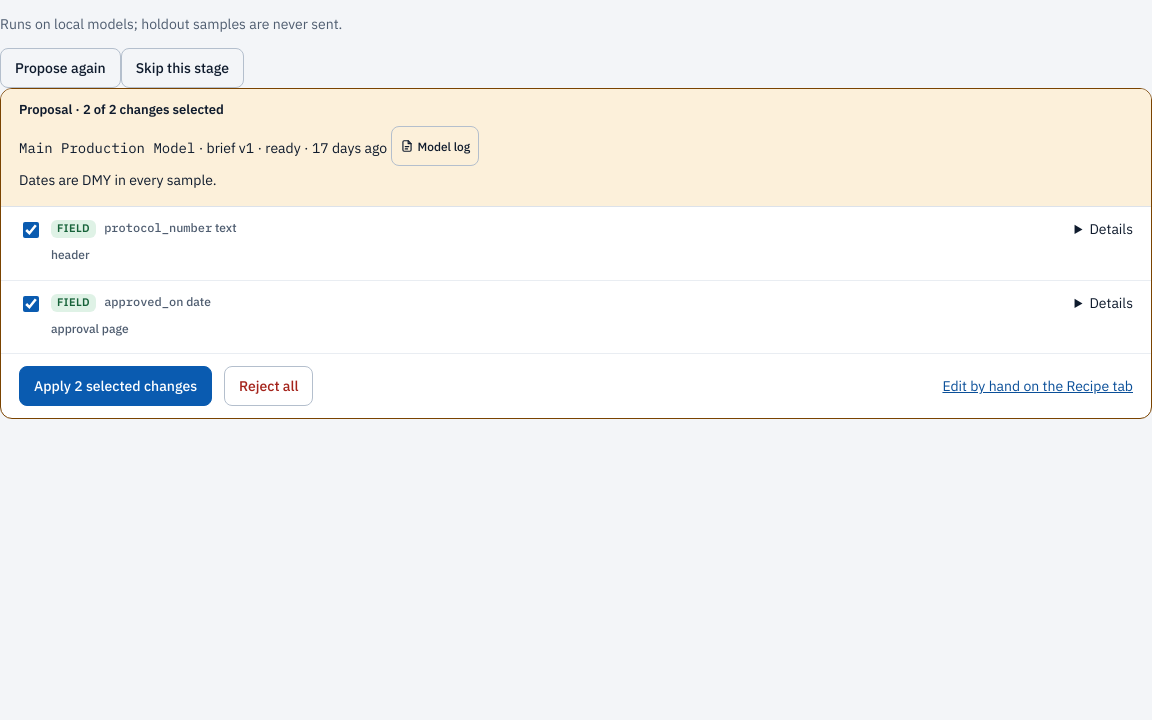
StagePanel › opens a proposal's model log, from the card and from a failed run
Click the button "Model log". click: (435, 146)
box: [390,126,479,166]
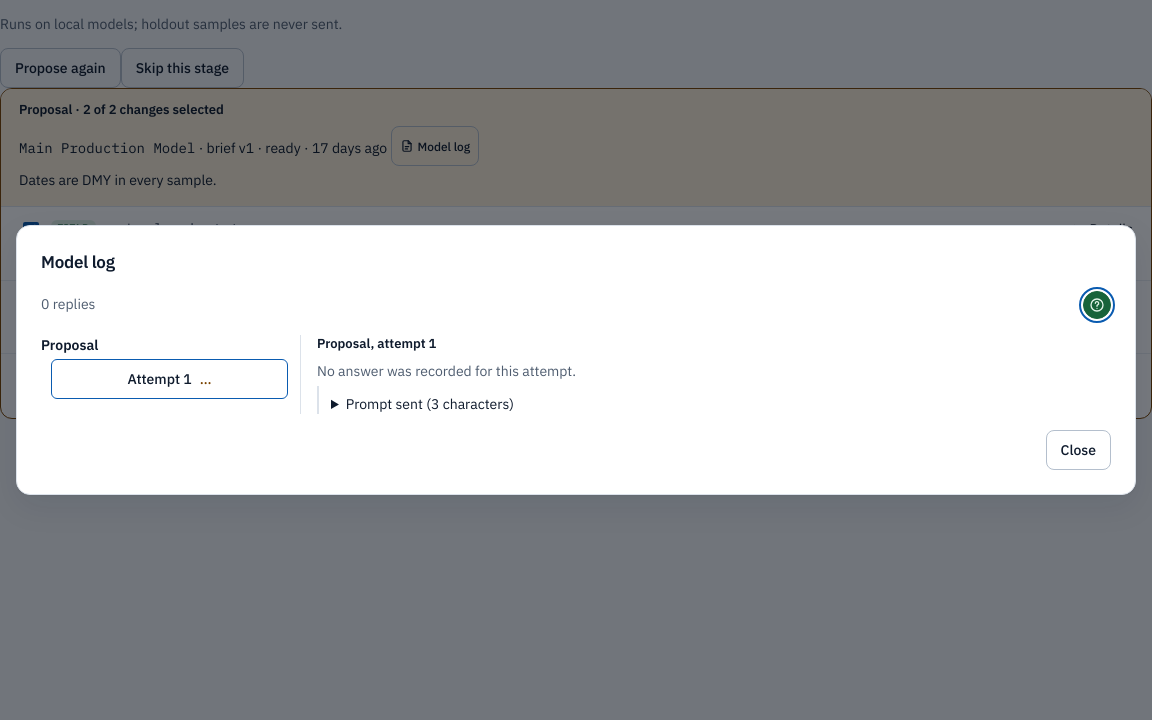
Check: the dialog "Model log" is shown, box [16,225,1136,495]
